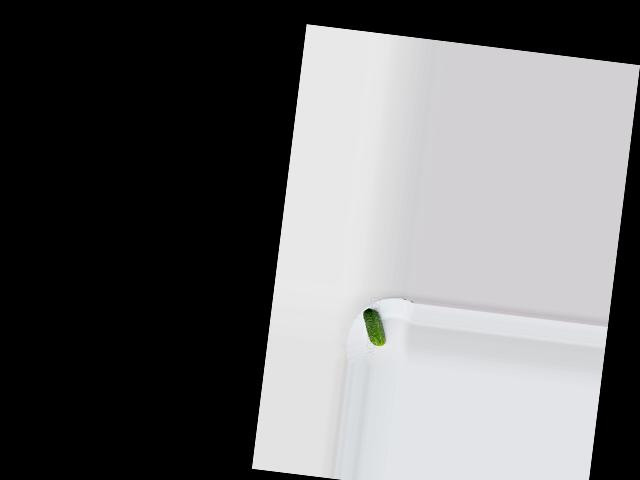cucumber: (360, 308, 389, 346)
